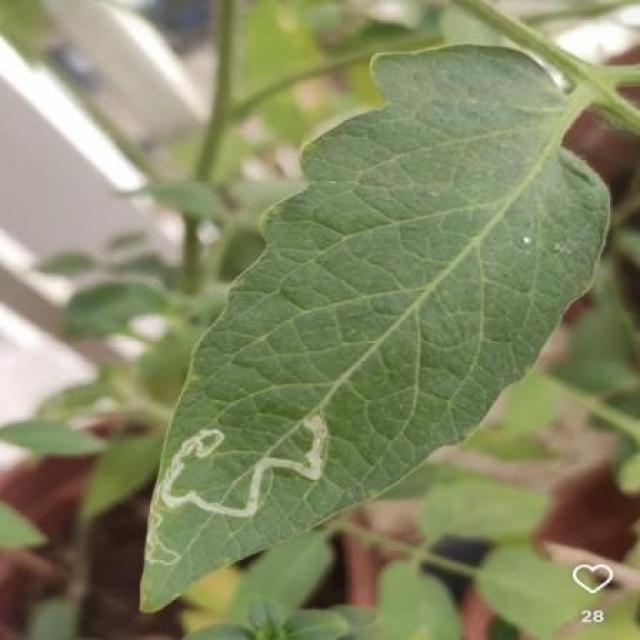Leaf Miner: (138, 40, 611, 616)
